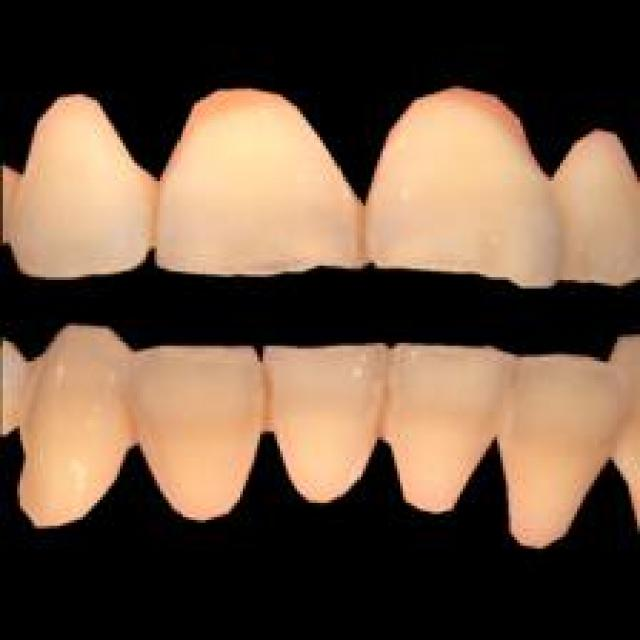cavity: (134, 174, 163, 246), (349, 200, 380, 263), (206, 92, 283, 117), (251, 368, 280, 426), (117, 394, 143, 446)
tooth: (366, 71, 546, 286), (154, 86, 349, 271), (20, 92, 154, 274), (12, 323, 132, 526), (506, 348, 620, 548), (134, 343, 260, 517), (257, 343, 392, 497), (386, 340, 508, 509), (546, 126, 637, 283)
